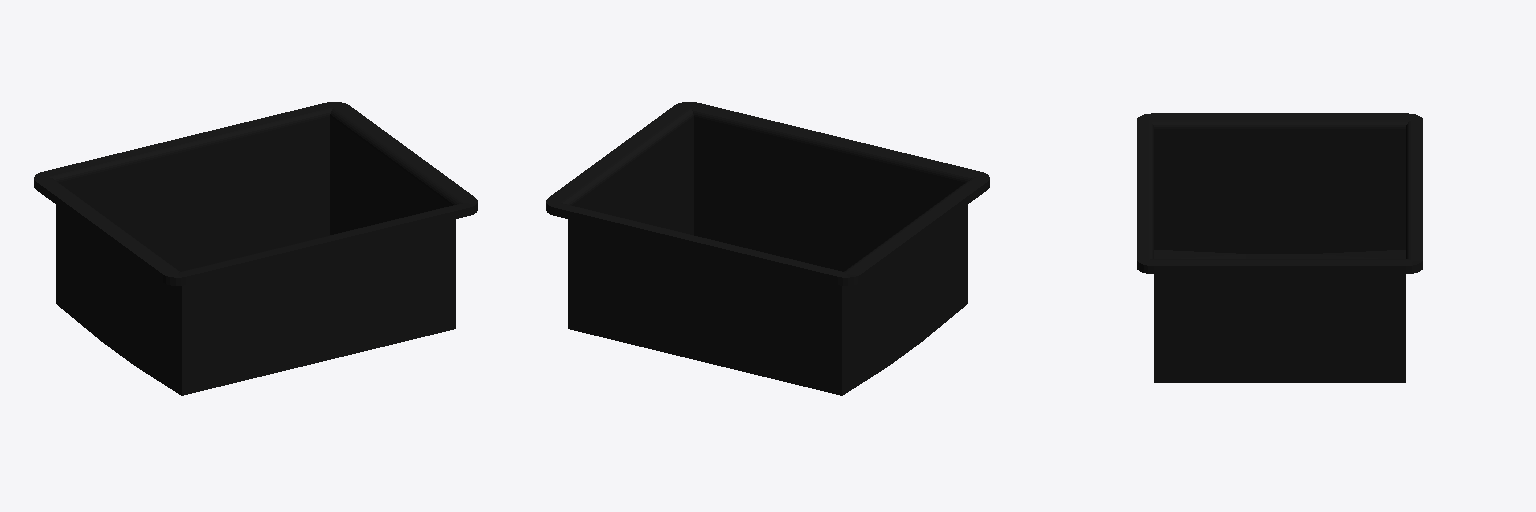
The model's file is sink.obj.
The picture shows the model from 3 angles: view 1: azimuth 30°, elevation 25°; view 2: azimuth 150°, elevation 25°; view 3: azimuth 270°, elevation 25°; orthographic projection.
Visible parts, largest first — view 1: Sink_Cube; view 2: Sink_Cube; view 3: Sink_Cube.
Part boxes in pixels (bbox=[...]): Sink_Cube: bbox=[34, 102, 477, 395]; Sink_Cube: bbox=[546, 102, 989, 395]; Sink_Cube: bbox=[1137, 113, 1422, 382].
Bounding box in the file's own units: 1.23 × 0.4994 × 0.9797.